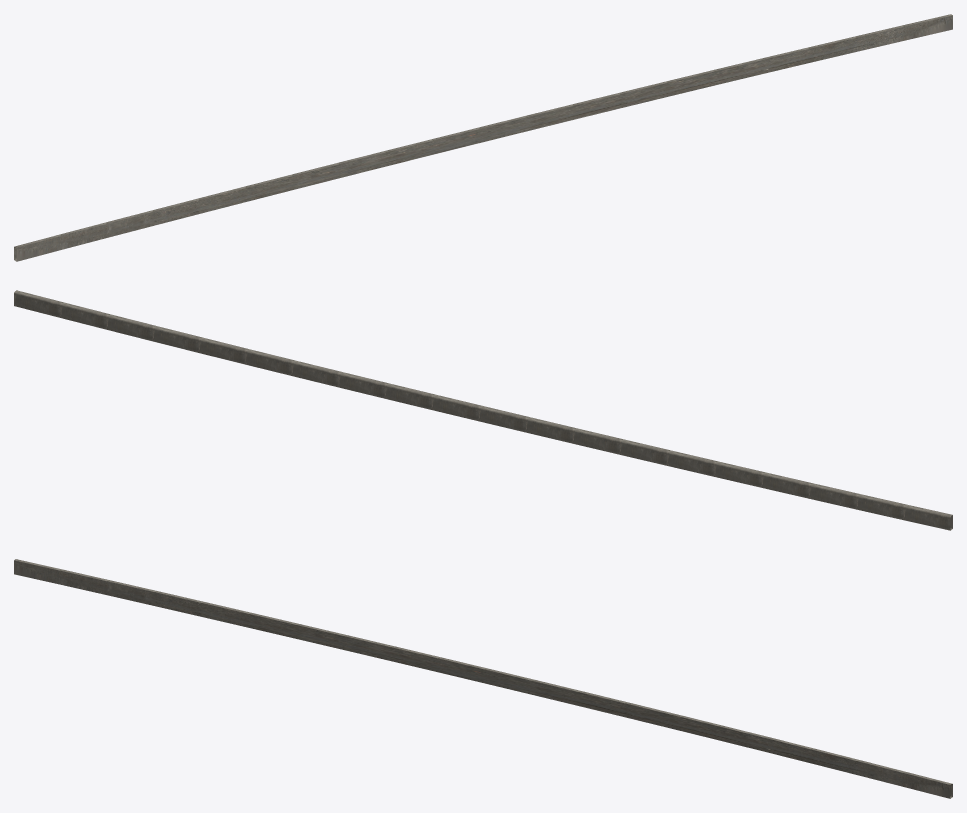
The model's file is SM_Curb_26.glb.
3 views of the same model, one above another, from view 1: azimuth 30°, elevation 25°; view 2: azimuth 150°, elevation 25°; view 3: azimuth 330°, elevation 25° (orthographic).
Visible parts, largest first — view 1: SM_Curb_26; view 2: SM_Curb_26; view 3: SM_Curb_26.
Boxes of the visible parts, x1,y1,x2,y2 form: SM_Curb_26: (14, 14, 952, 261); SM_Curb_26: (14, 290, 952, 530); SM_Curb_26: (14, 559, 952, 798).
Size of the model in its own units: 5259 by 75.04 by 86.04.
1 material, 1 textured.
